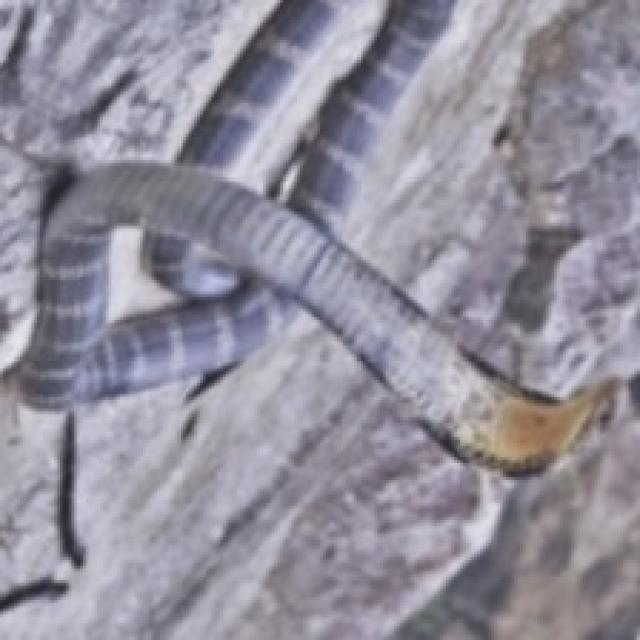king cobra: (0, 0, 637, 391), (0, 311, 509, 637)
